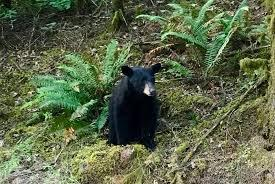bear: (108, 63, 162, 150)
